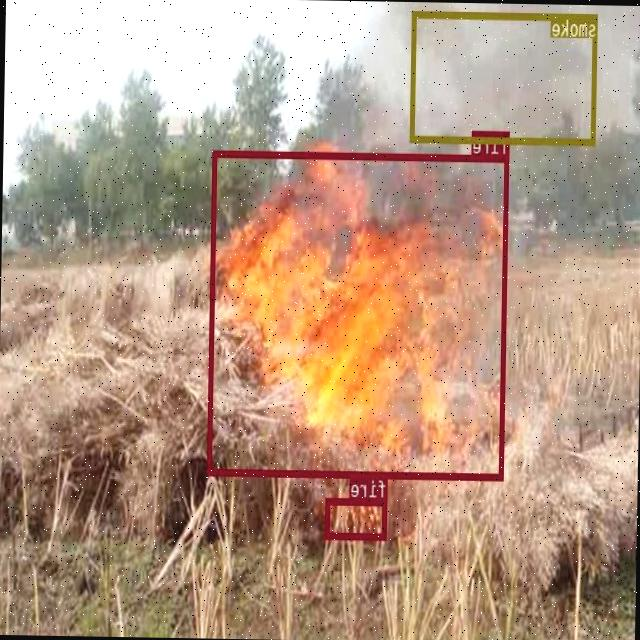fire: (208, 150, 510, 478), (326, 496, 388, 539)
smoke: (410, 10, 598, 143)
